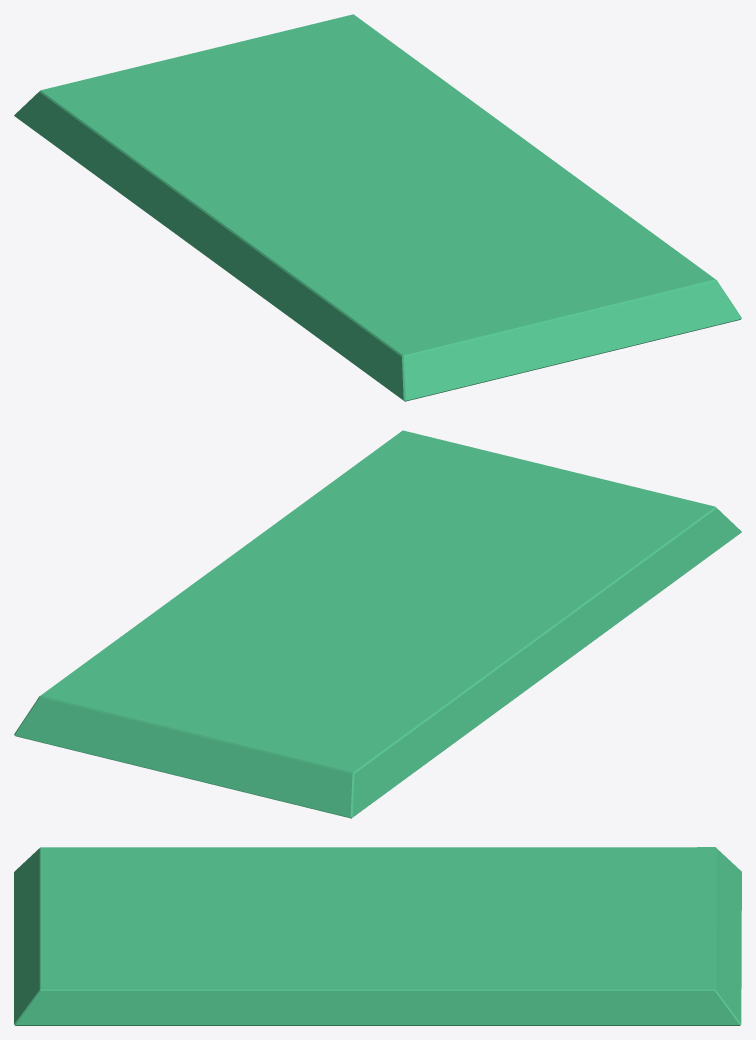
File: gm_curb_03.dae
3 renders of one model, top to bottom at view 1: azimuth 30°, elevation 25°; view 2: azimuth 150°, elevation 25°; view 3: azimuth 270°, elevation 25°, orthographic. The views are drawn at different scales.
Visible parts, largest first — view 1: Colmesh-1; view 2: Colmesh-1; view 3: Colmesh-1.
Part boxes in pixels (x1,y1,x2,y2): Colmesh-1: [14, 14, 741, 401]; Colmesh-1: [14, 430, 741, 818]; Colmesh-1: [14, 847, 741, 1025].
Size of the model in its own units: 4.3 by 8.6 by 0.4071.
